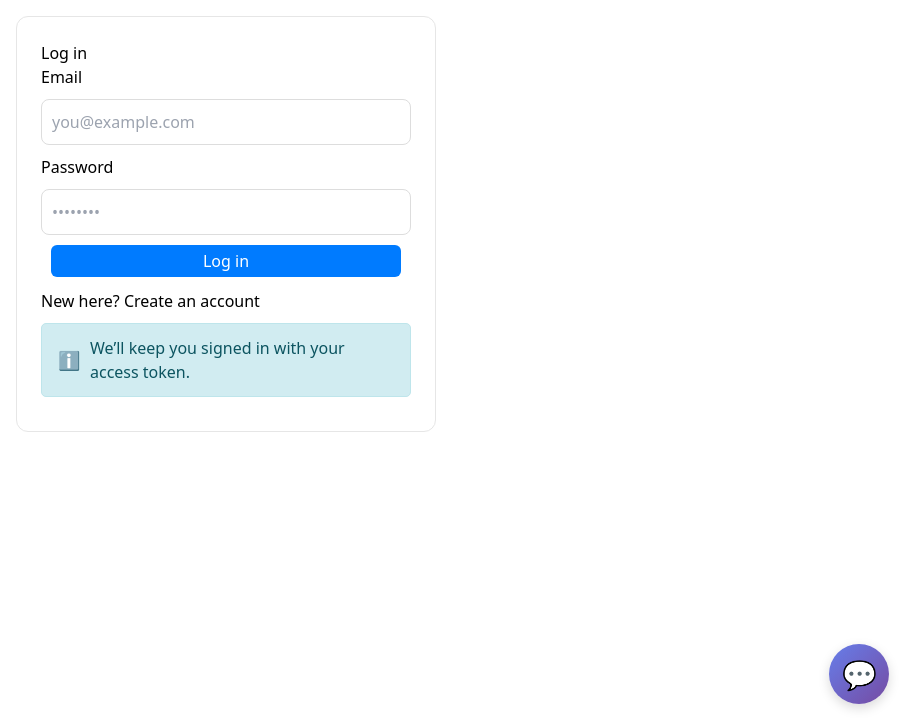
client validation runs
Click the button "Log in": [226, 261] box [51,245,401,277]
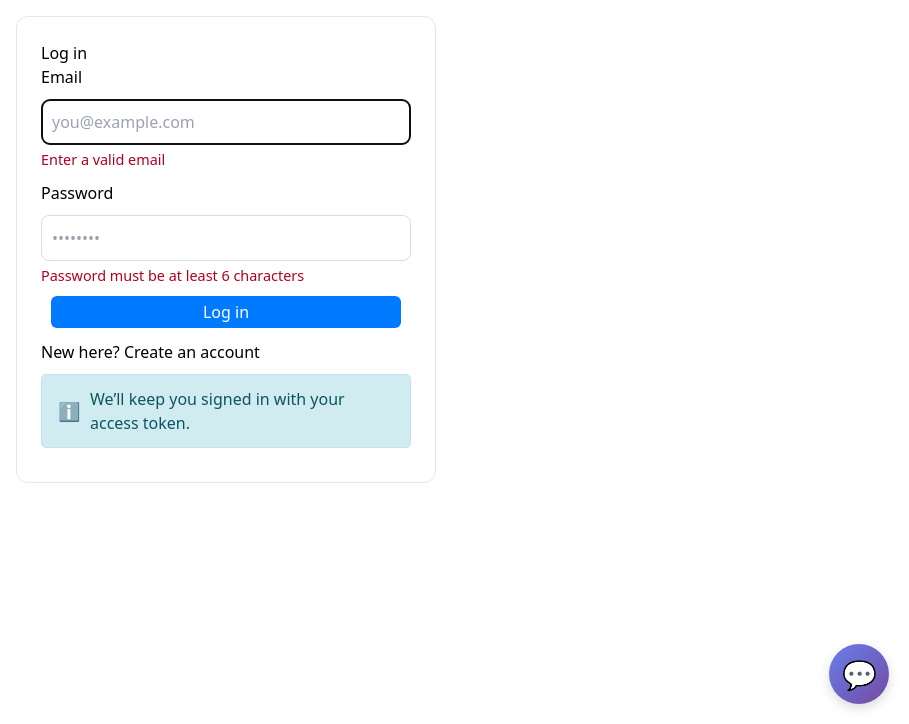
Result: the text "Enter a valid email" is shown at [41,150,165,169]
